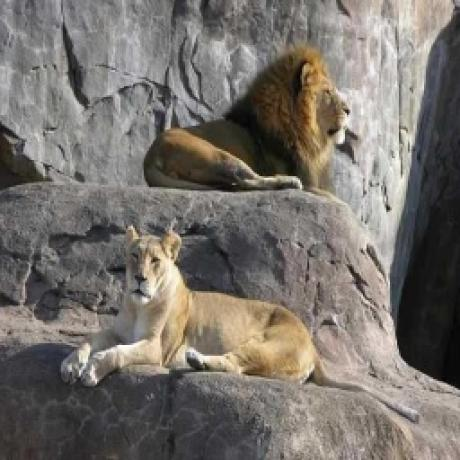Lion: (56, 220, 426, 426), (142, 37, 354, 195)
